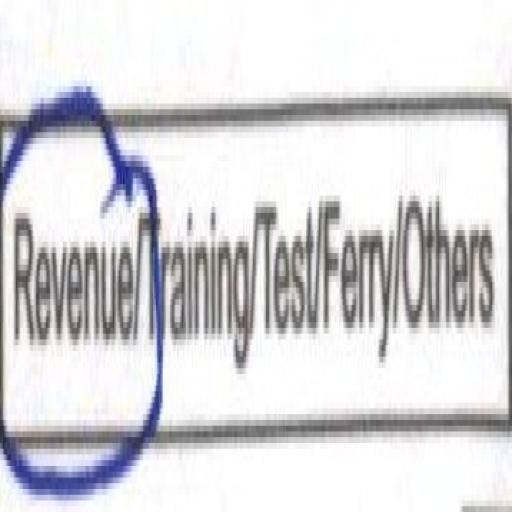check: (1, 95, 135, 512)
